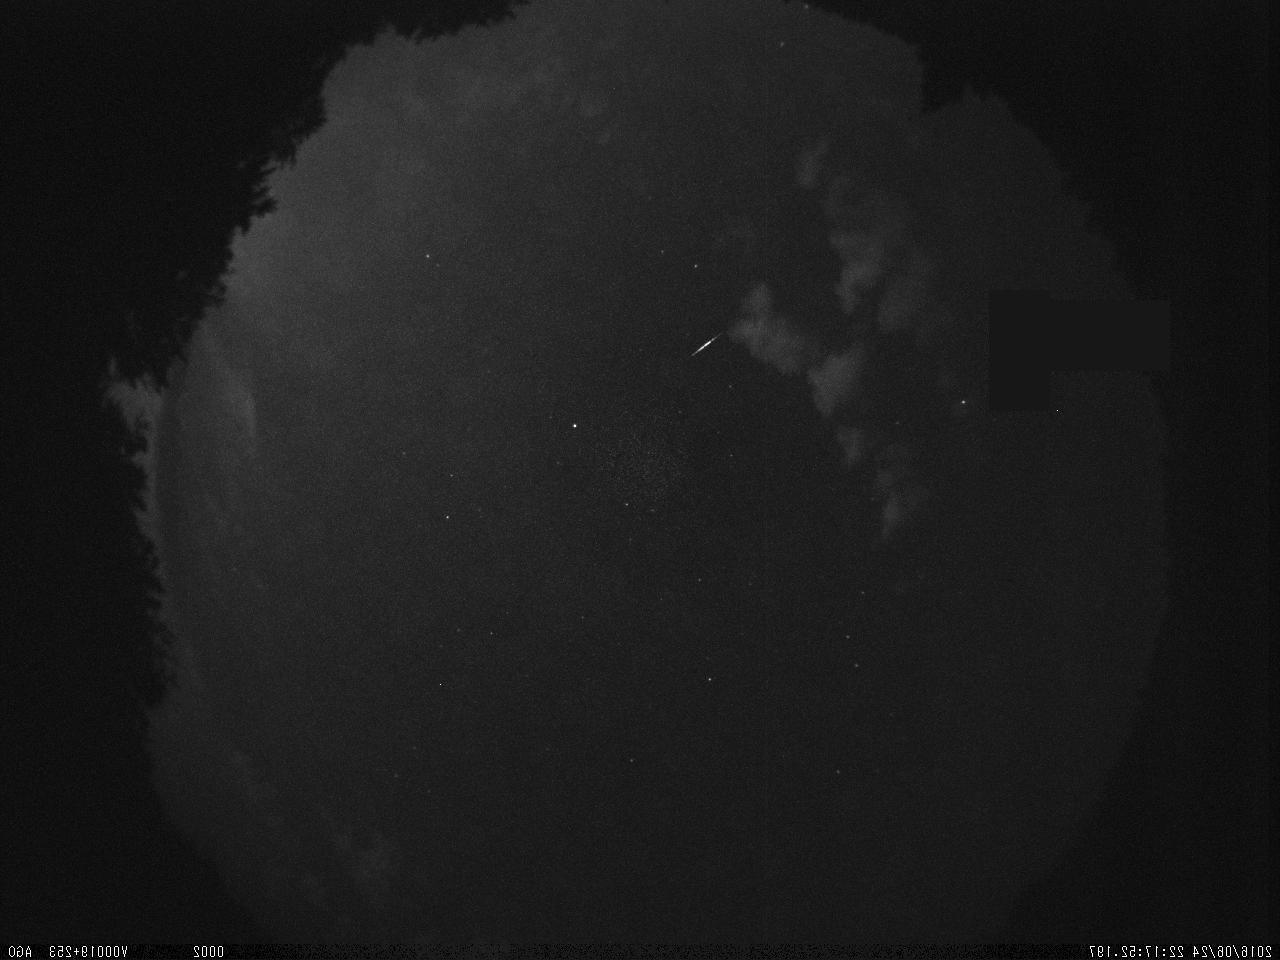meteor: (675, 317, 740, 374)
